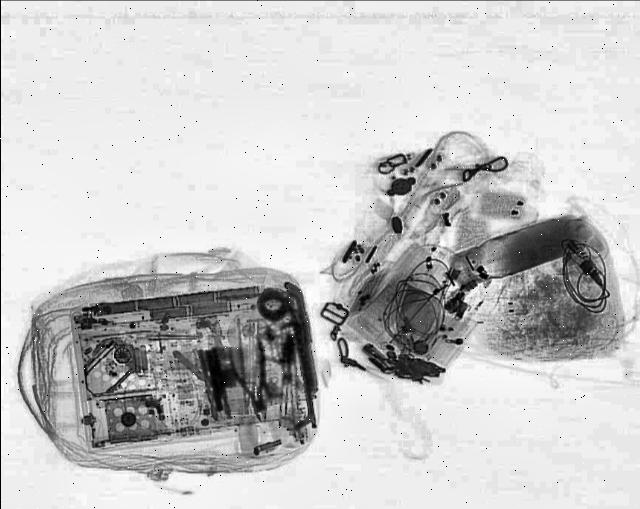Pliers: (222, 334, 282, 424)
